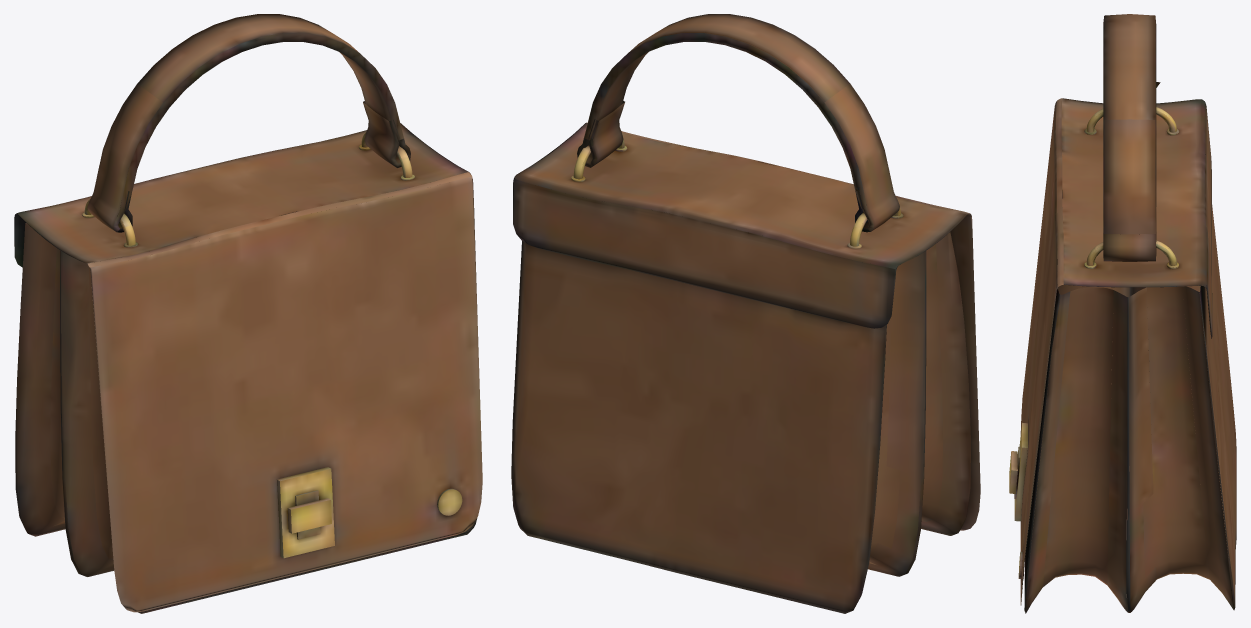
File: ropa_ladies_handbag_vol_1.glb
The picture shows the model from 3 angles, left to right: view 1: azimuth 30°, elevation 25°; view 2: azimuth 150°, elevation 25°; view 3: azimuth 270°, elevation 25°; orthographic projection.
Parts seen in each view (by area): view 1: Object_2; view 2: Object_2; view 3: Object_2.
Boxes of the visible parts, x1,y1,x2,y2 form: Object_2: (14,14,482,613); Object_2: (511,14,980,613); Object_2: (1009,14,1236,613).
Size of the model in its own units: 0.274 by 0.35 by 0.1427.
1 material, 1 textured.
